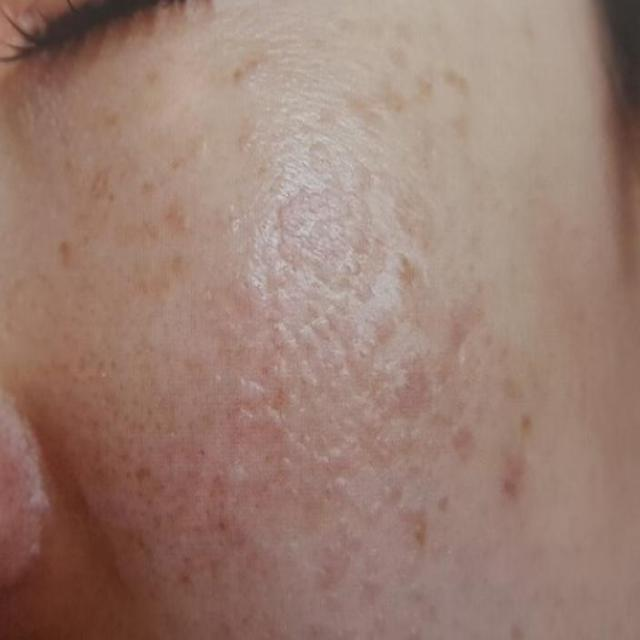comedone: (207, 366, 232, 400), (165, 421, 190, 451)
flat_wart: (285, 132, 407, 282), (311, 310, 413, 448), (248, 372, 296, 520), (296, 478, 419, 535), (246, 204, 290, 356)
